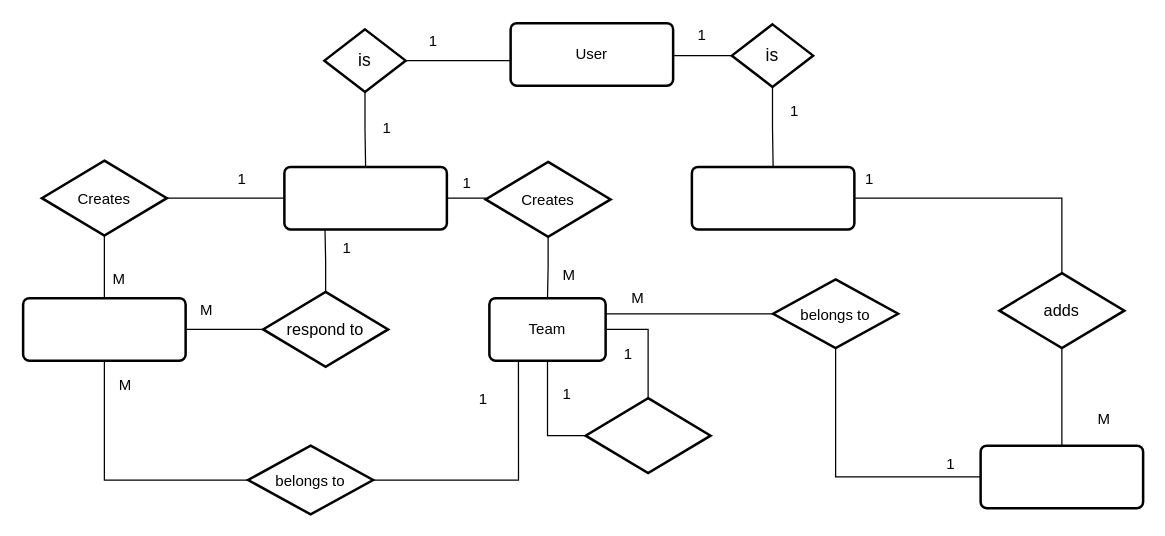
This 1165x536 diagram has some shape labels left out. Each missing label, with the centre of its shape:
"Coordinator" goes at pixel 772 197.
"Course" goes at pixel 1061 476.
"MemberRequest" goes at pixel 103 328.
"merge with" goes at pixel 647 435.
"Student" goes at pixel 365 197.
